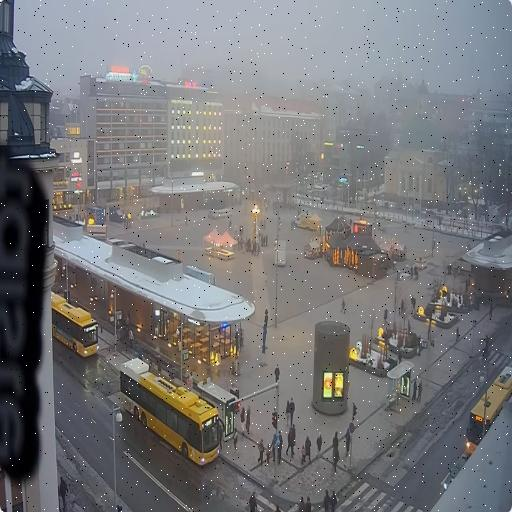bus: (121, 358, 219, 464), (466, 366, 512, 454), (52, 292, 99, 355), (52, 293, 98, 355)
